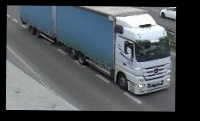truck: (19, 6, 173, 95)
